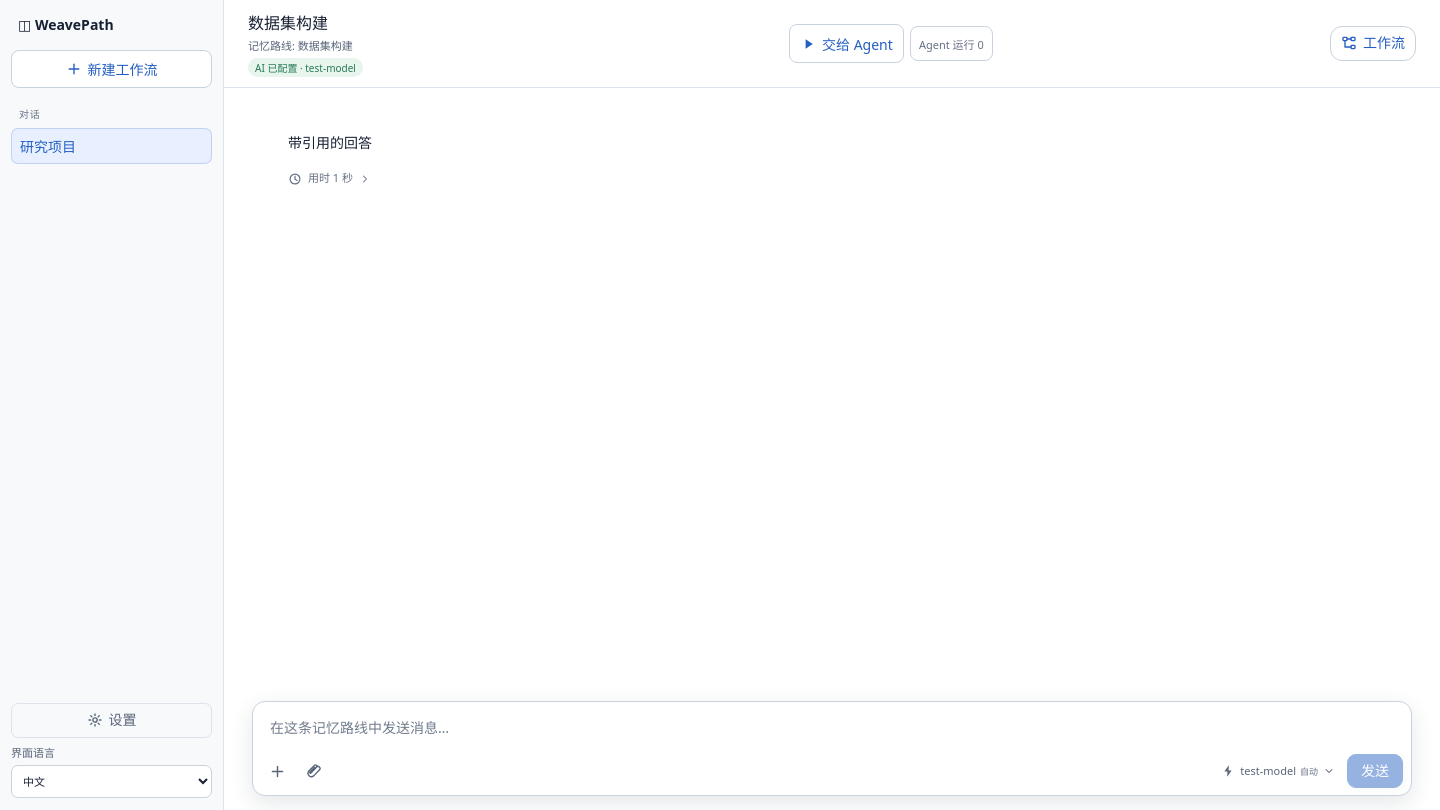
Test: chat delivery mode › opens the exact file evidence from ordinary reply details
The width and height of the screenshot is (1440, 810).
Expected: the text "带引用的回答" is shown, [288,133,372,152]
Click the heading named "回复详情".
click(330, 178)  # box [288,170,371,186]
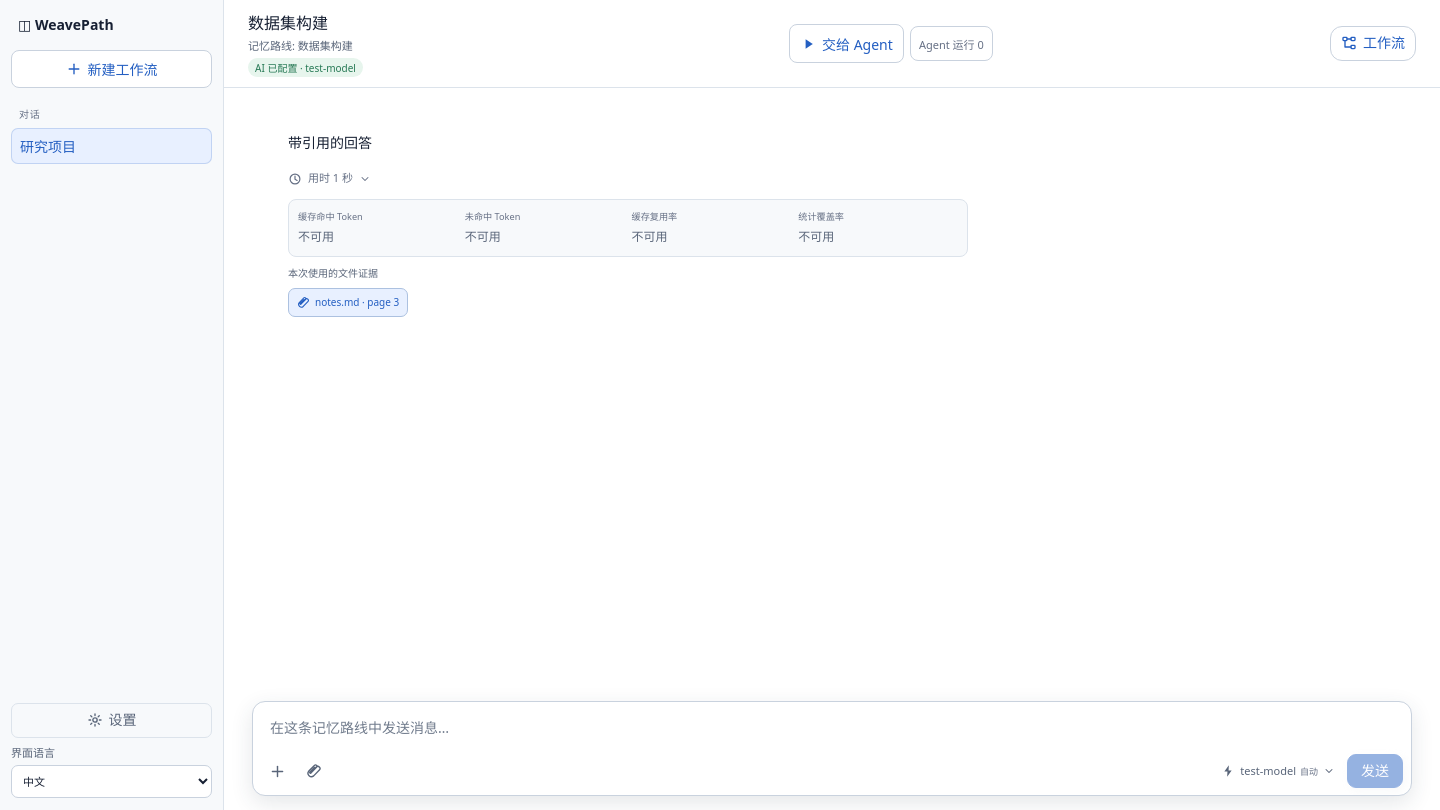
Click the button "notes.md · page 3".
click(348, 302)  # box [288,288,408,317]
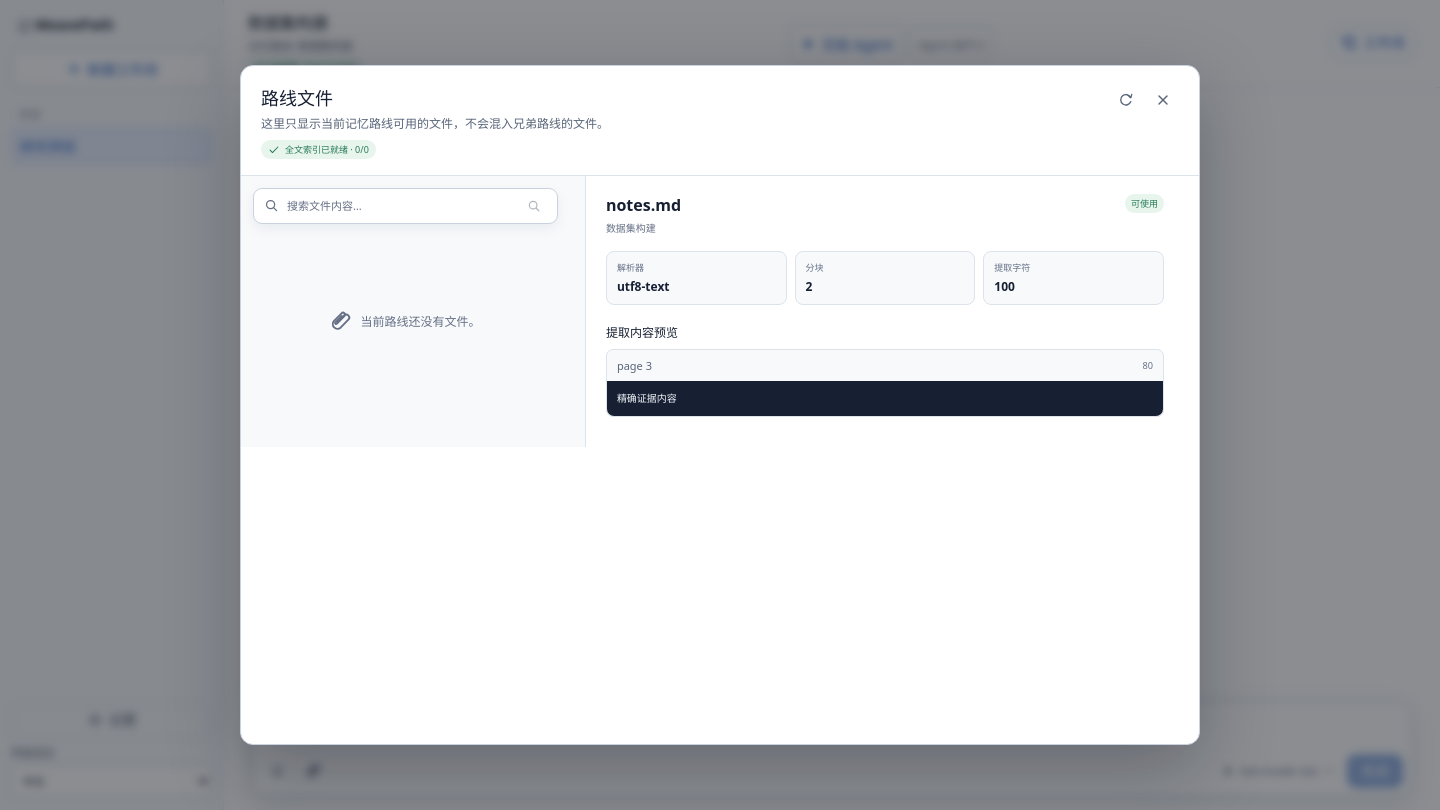
Now the heading "路线文件" is shown, box [261,86,333,110]
Now the text "精确证据内容" is shown, box [607,380,1163,416]
